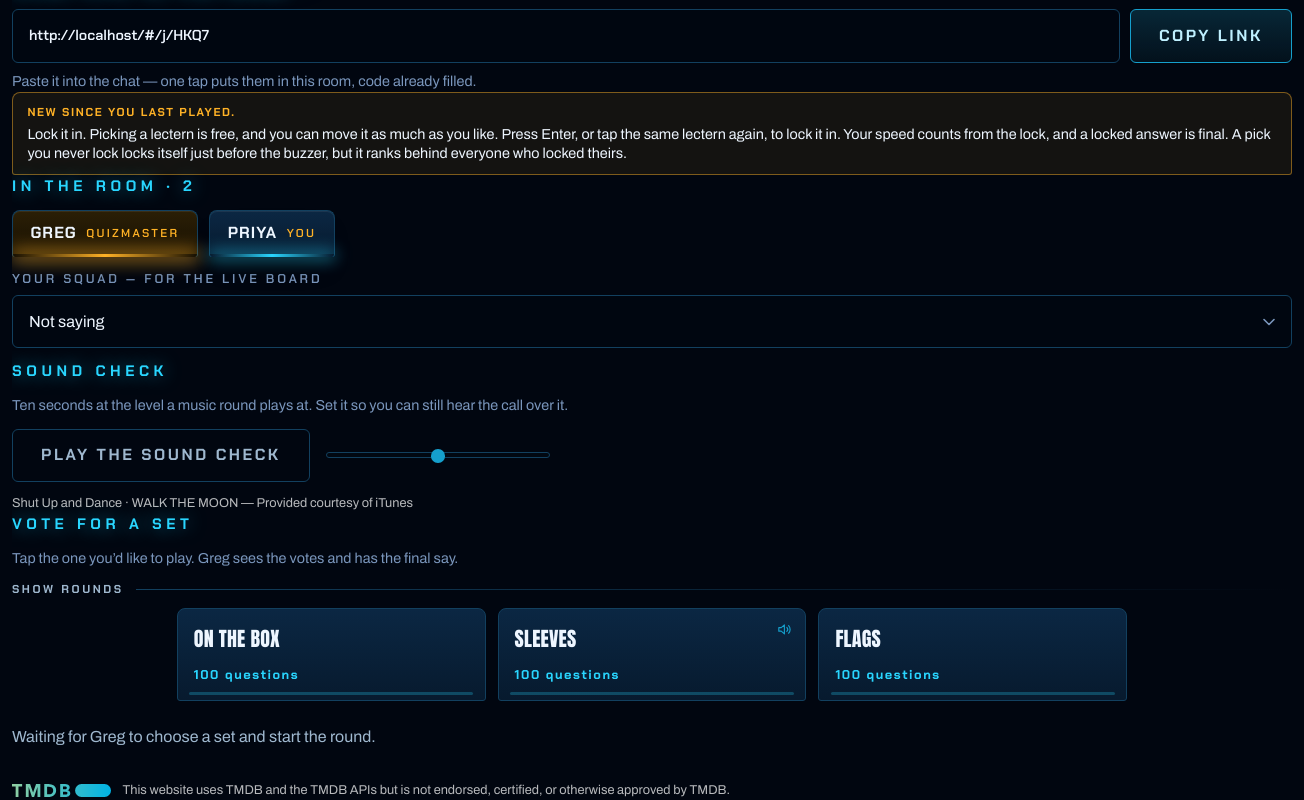
Test: the lobby vote limit › the hint says one change is left, then that it is locked
(page scrolled)
Check: the text "Tap the one you.d like to play" is shown, box [12, 550, 458, 566]
What coordinates should you click on to do the following:
click the button "Sleeves 100 questions"
I would click on:
 (546, 638)
Its box is [498, 608, 806, 701].
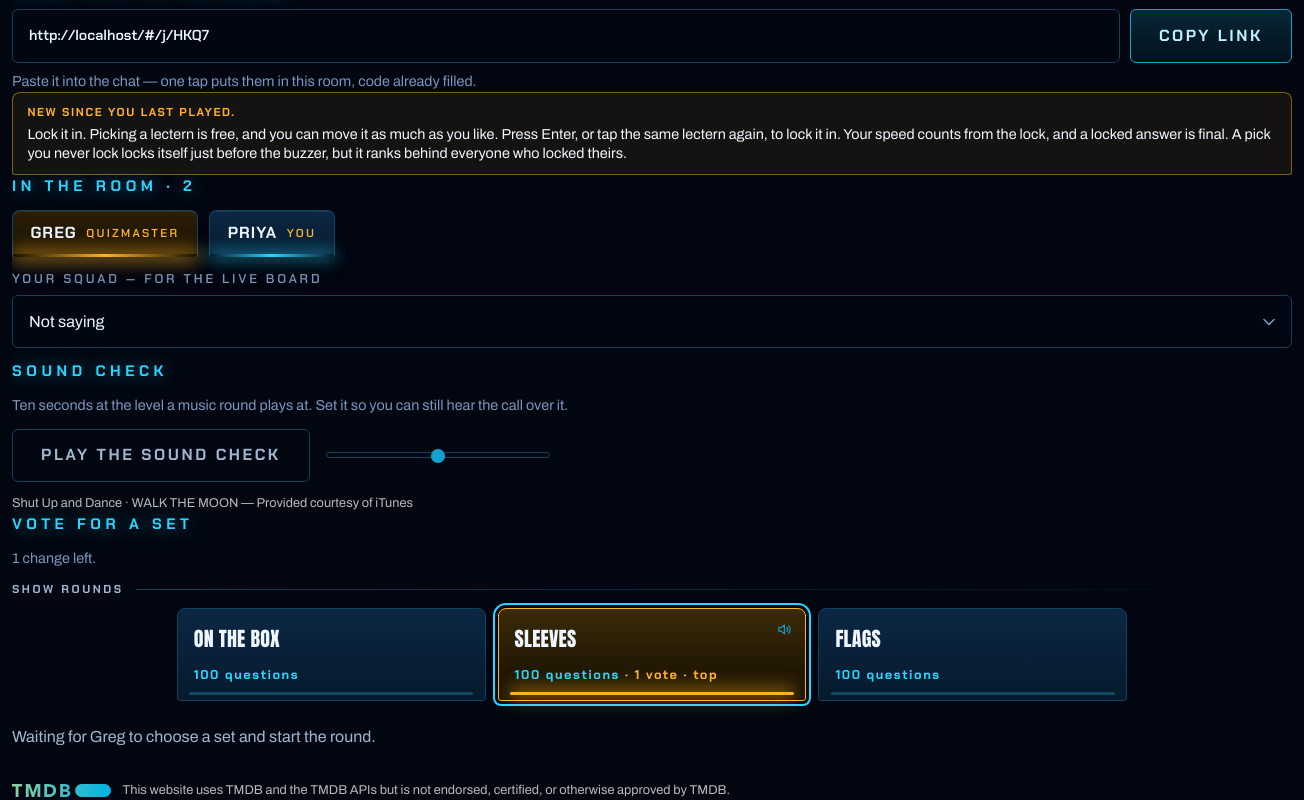
Check: the text "1 change left." is shown, box [12, 550, 96, 566]
What coordinates should you click on to do the following:
click the button "Flags 100 questions"
I would click on:
 (858, 638)
Its box is [818, 608, 1127, 701].
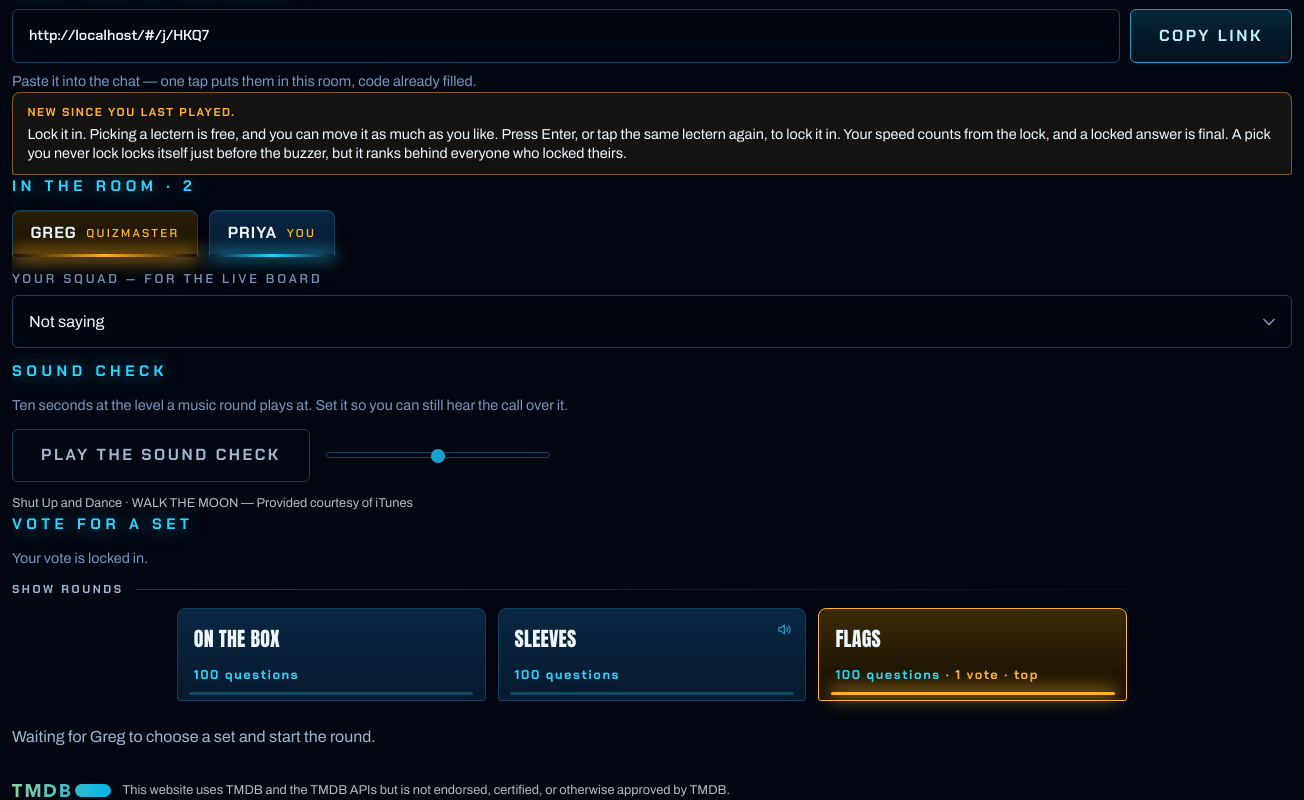
Check: the text "Your vote is locked in." is shown, box [12, 550, 148, 566]
